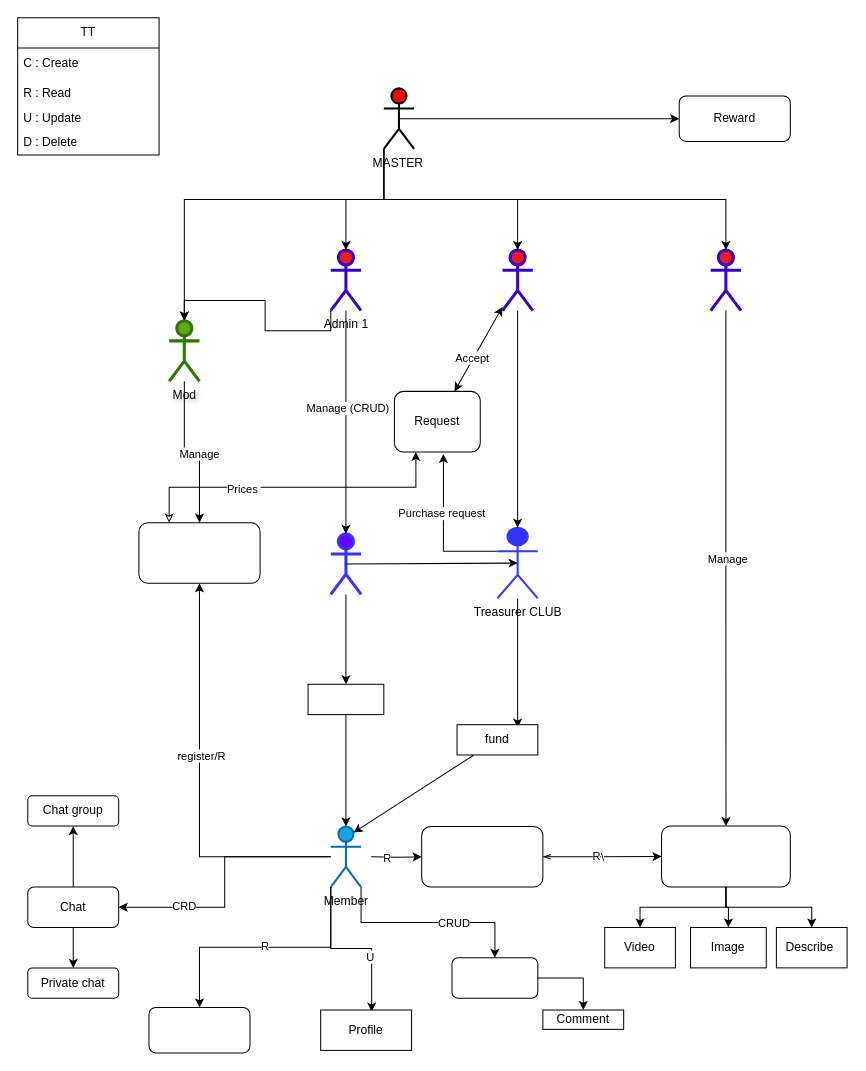
Image size: 866x1071. Some labels were removed from this diagram. The shapes that lost their labels are listed below. From the top down, each one's centre as x and y in pixels, then its label:
the point at 517,280: Admin 2
the point at 725,280: Admin 3
the point at 199,552: activity/event
the point at 345,563: COACH CLUB
the point at 345,699: Manage Update
the point at 482,856: Ranks
the point at 725,856: Technique (Describe, Image, Video)
the point at 494,977: Post
the point at 199,1029: History
